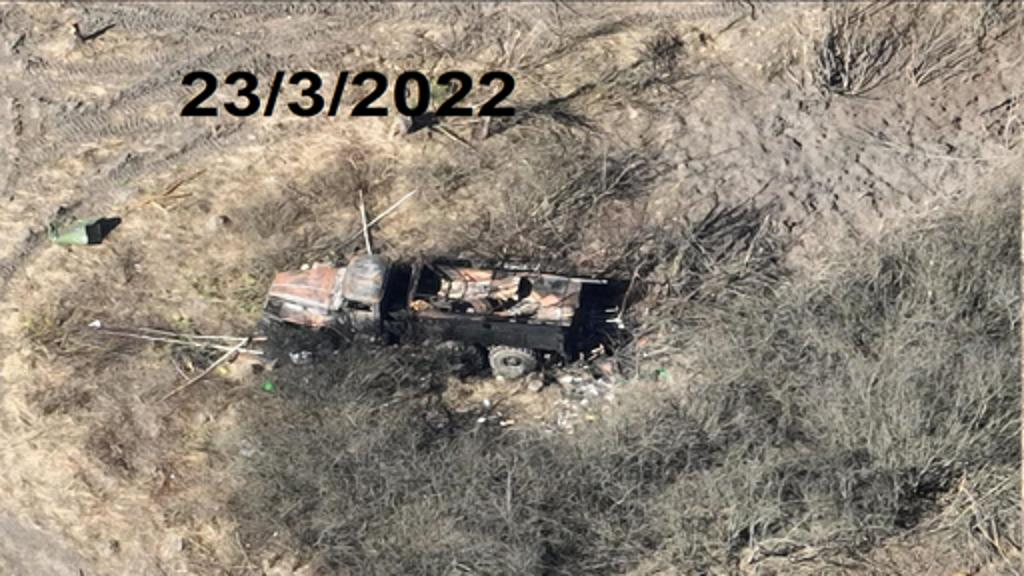TRUCK: (258, 236, 596, 392)
